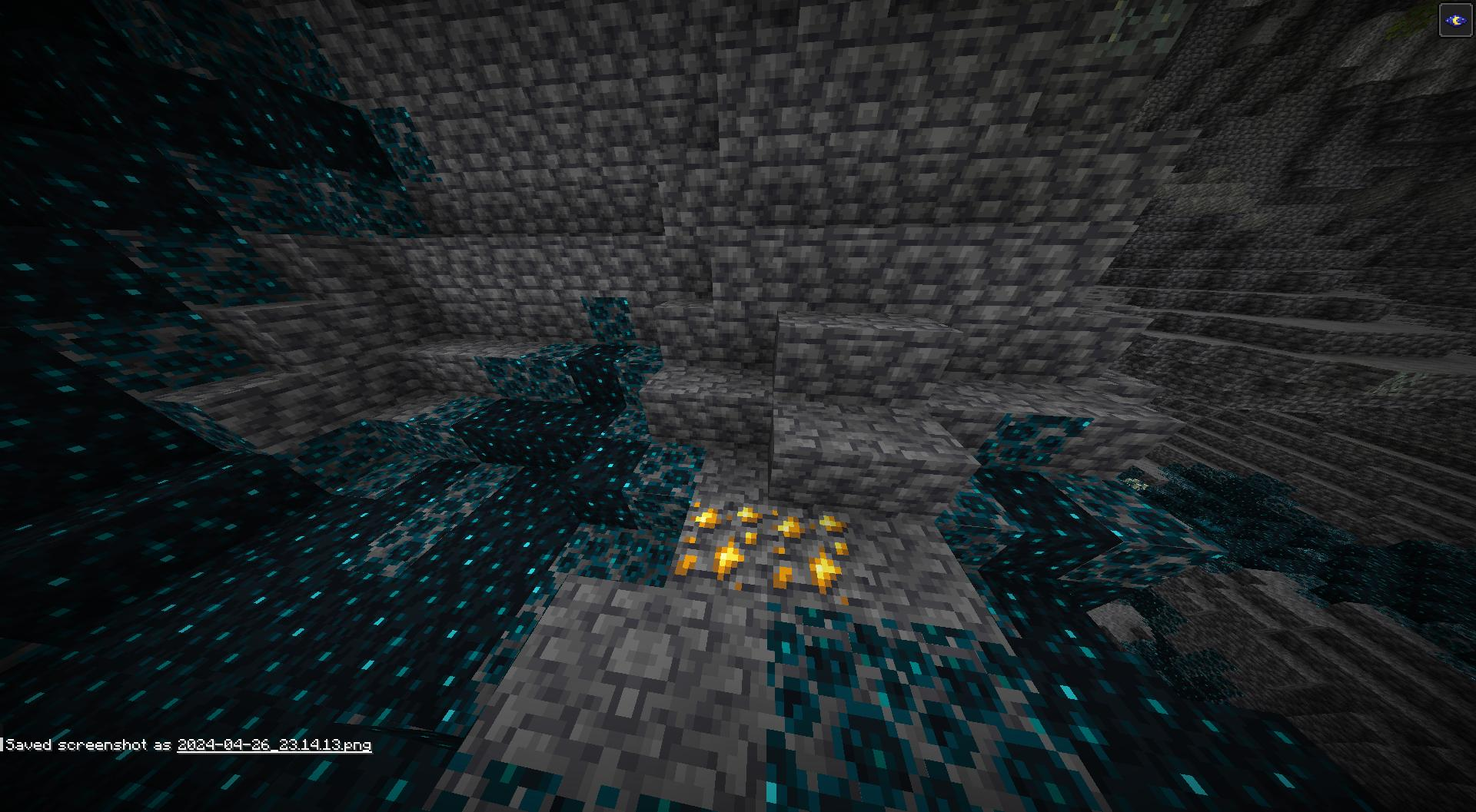gold ore: (763, 505, 857, 609), (672, 499, 762, 584)
